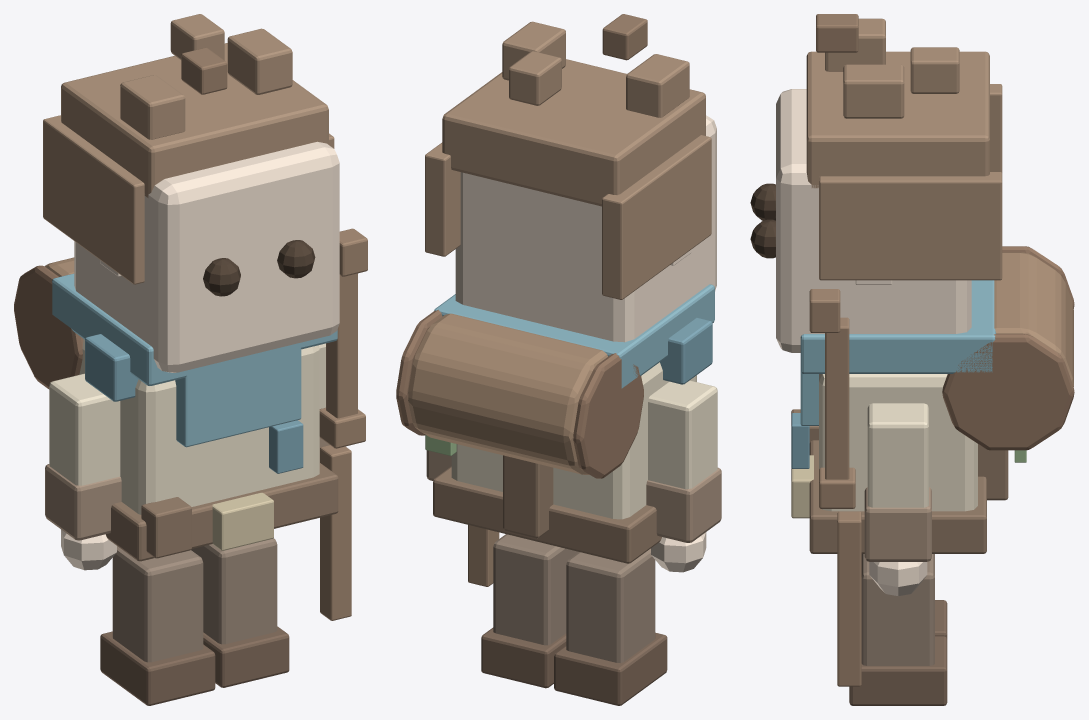
The model's file is wanderer_v2.glb.
3 renders of one model, left to right at view 1: azimuth 30°, elevation 25°; view 2: azimuth 150°, elevation 25°; view 3: azimuth 270°, elevation 25°, orthographic.
Parts seen in each view (by area): view 1: Head_Face, Hair_Top, Body_Tunic, Hair_Side_L, Scarf_Drape_F, LegL_Pants, LegR_Pants, ArmL_Sleeve, Belt_Strap, Pack_Log_End_L, LegL_Boot, Stick_Bottom (+17 smaller); view 2: Head_Face, Hair_Top, Pack_Log, Hair_Side_L, LegL_Pants, Belt_Strap, LegR_Pants, Body_Tunic, ArmL_Sleeve, Pack_Log_End_L, Scarf_Neck, LegL_Boot (+13 smaller); view 3: Hair_Side_R, Hair_Top, Head_Face, Pack_Log_End_R, Body_Tunic, Scarf_Neck, ArmR_Sleeve, Pack_Log, LegR_Pants, Belt_Strap, Stick_Bottom, LegR_Boot (+17 smaller).
Boxes of the visible parts, left/top/right/bottom form: Head_Face: left=74, top=141, right=339, bottom=372; Hair_Top: left=61, top=43, right=328, bottom=197; Body_Tunic: left=79, top=339, right=319, bottom=514; Hair_Side_L: left=43, top=115, right=144, bottom=284; Scarf_Drape_F: left=175, top=343, right=301, bottom=447; LegL_Pants: left=112, top=546, right=203, bottom=662; LegR_Pants: left=191, top=538, right=277, bottom=644; ArmL_Sleeve: left=49, top=373, right=120, bottom=485; Belt_Strap: left=106, top=463, right=338, bottom=561; Pack_Log_End_L: left=14, top=265, right=83, bottom=389; LegL_Boot: left=100, top=631, right=215, bottom=705; Stick_Bottom: left=320, top=445, right=351, bottom=620; Head_Face: left=455, top=115, right=716, bottom=342; Hair_Top: left=442, top=59, right=705, bottom=206; Pack_Log: left=408, top=313, right=607, bottom=474; Hair_Side_L: left=602, top=135, right=711, bottom=299; LegL_Pants: left=566, top=548, right=655, bottom=663; Belt_Strap: left=433, top=466, right=661, bottom=563; LegR_Pants: left=493, top=534, right=578, bottom=645; Body_Tunic: left=451, top=362, right=696, bottom=519; ArmL_Sleeve: left=648, top=380, right=717, bottom=489; Pack_Log_End_L: left=573, top=353, right=643, bottom=478; Scarf_Neck: left=434, top=284, right=714, bottom=388; LegL_Boot: left=554, top=632, right=667, bottom=705; Hair_Side_R: left=819, top=172, right=1002, bottom=280; Hair_Top: left=806, top=51, right=989, bottom=188; Head_Face: left=776, top=89, right=971, bottom=352; Pack_Log_End_R: left=942, top=334, right=1074, bottom=450; Body_Tunic: left=819, top=374, right=977, bottom=511; Scarf_Neck: left=800, top=280, right=995, bottom=373; ArmR_Sleeve: left=867, top=403, right=928, bottom=507; Pack_Log: left=994, top=252, right=1073, bottom=386; LegR_Pants: left=861, top=554, right=934, bottom=665; Belt_Strap: left=809, top=440, right=986, bottom=553; Stick_Bottom: left=837, top=511, right=861, bottom=686; LegR_Boot: left=849, top=636, right=947, bottom=705.
Bounding box in the file's own units: 0.51 × 1.16 × 0.5302.
